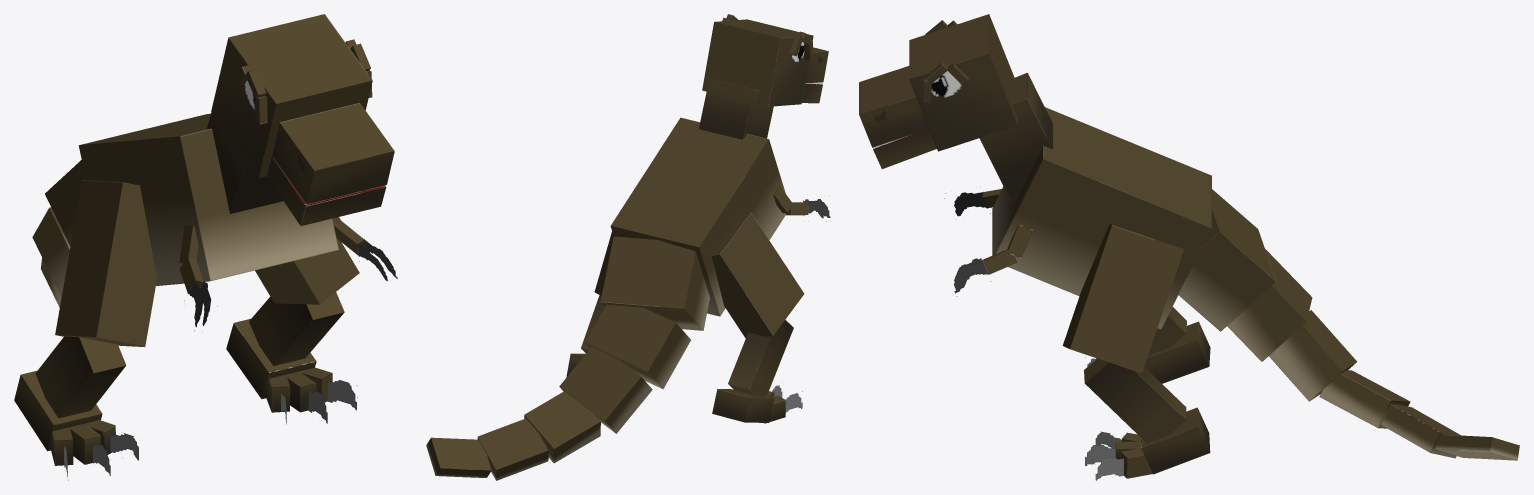
The model's file is animateddinosaur48.obj.
3 views of the same model, side by side, from view 1: azimuth 30°, elevation 25°; view 2: azimuth 150°, elevation 25°; view 3: azimuth 270°, elevation 25° (orthographic). The views are drawn at different scales.
Parts seen in each view (by area): view 1: Object_6, Object_64, Object_9, Object_56, Object_12, Object_34, Object_31, Object_53, Object_79, Object_37, Object_15, Object_95 (+13 smaller); view 2: Object_6, Object_92, Object_9, Object_64, Object_95, Object_98, Object_53, Object_101, Object_104, Object_12, Object_107, Object_15 (+1 smaller); view 3: Object_6, Object_31, Object_64, Object_92, Object_34, Object_53, Object_95, Object_98, Object_56, Object_101, Object_37, Object_15 (+5 smaller).
Part boxes in pixels (<box>): Object_6: <box>78,113,338,285</box>; Object_64: <box>211,14,372,178</box>; Object_9: <box>55,180,156,346</box>; Object_56: <box>272,103,394,204</box>; Object_12: <box>35,336,126,418</box>; Object_34: <box>249,292,344,366</box>; Object_31: <box>255,238,359,304</box>; Object_53: <box>206,112,283,213</box>; Object_79: <box>267,156,386,225</box>; Object_37: <box>226,318,316,399</box>; Object_15: <box>14,370,102,451</box>; Object_95: <box>32,207,70,296</box>; Object_6: <box>610,117,785,316</box>; Object_92: <box>600,236,709,330</box>; Object_9: <box>711,212,804,338</box>; Object_64: <box>702,19,813,106</box>; Object_95: <box>585,304,690,388</box>; Object_98: <box>559,347,652,433</box>; Object_53: <box>699,79,773,139</box>; Object_101: <box>524,391,600,463</box>; Object_104: <box>477,418,548,480</box>; Object_12: <box>728,320,793,396</box>; Object_107: <box>426,437,491,477</box>; Object_15: <box>712,389,774,422</box>; Object_6: <box>992,107,1211,329</box>; Object_31: <box>1062,224,1183,373</box>; Object_64: <box>909,14,1017,151</box>; Object_92: <box>1178,189,1276,331</box>; Object_34: <box>1084,358,1186,443</box>; Object_53: <box>979,72,1052,205</box>; Object_95: <box>1227,249,1312,361</box>; Object_98: <box>1269,310,1356,401</box>; Object_56: <box>859,66,928,147</box>; Object_101: <box>1319,370,1410,428</box>; Object_37: <box>1141,407,1210,474</box>; Object_15: <box>1144,321,1210,383</box>.
Size of the model in its own units: 2.41 by 3.49 by 5.35.
